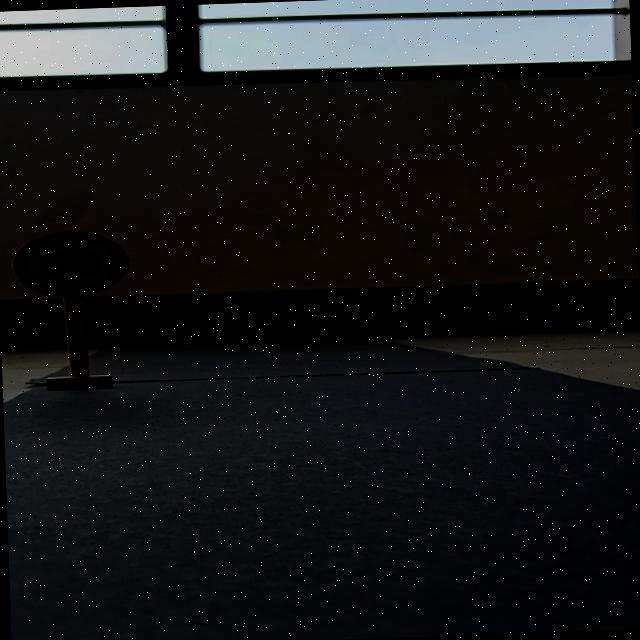Speed60: (6, 228, 130, 296)
